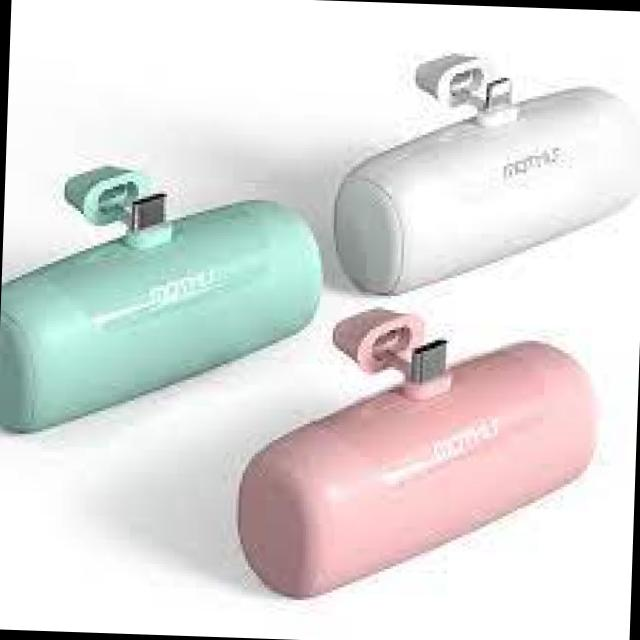portable-charger: (233, 300, 601, 613), (0, 155, 330, 449), (333, 47, 640, 304)
